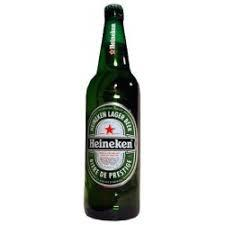beer: (85, 4, 142, 220)
